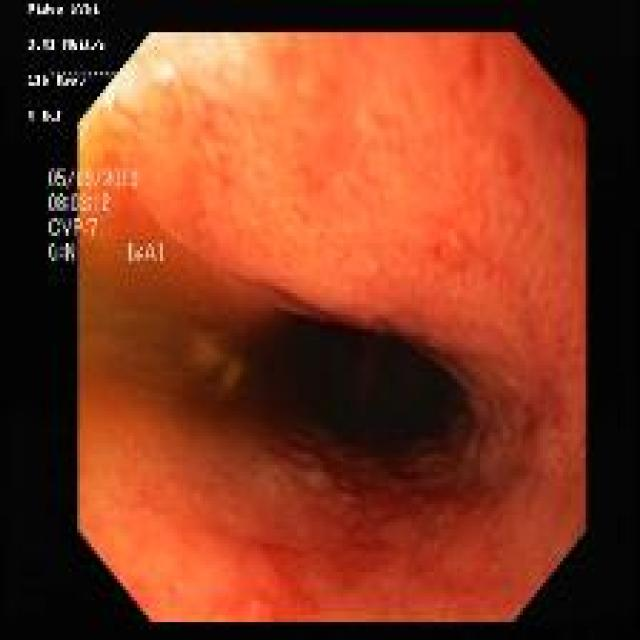ulcerative-colitis: (78, 33, 586, 621)
